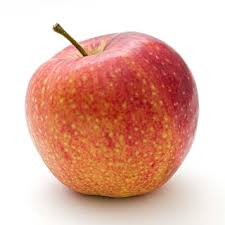apple: (28, 35, 196, 199)
